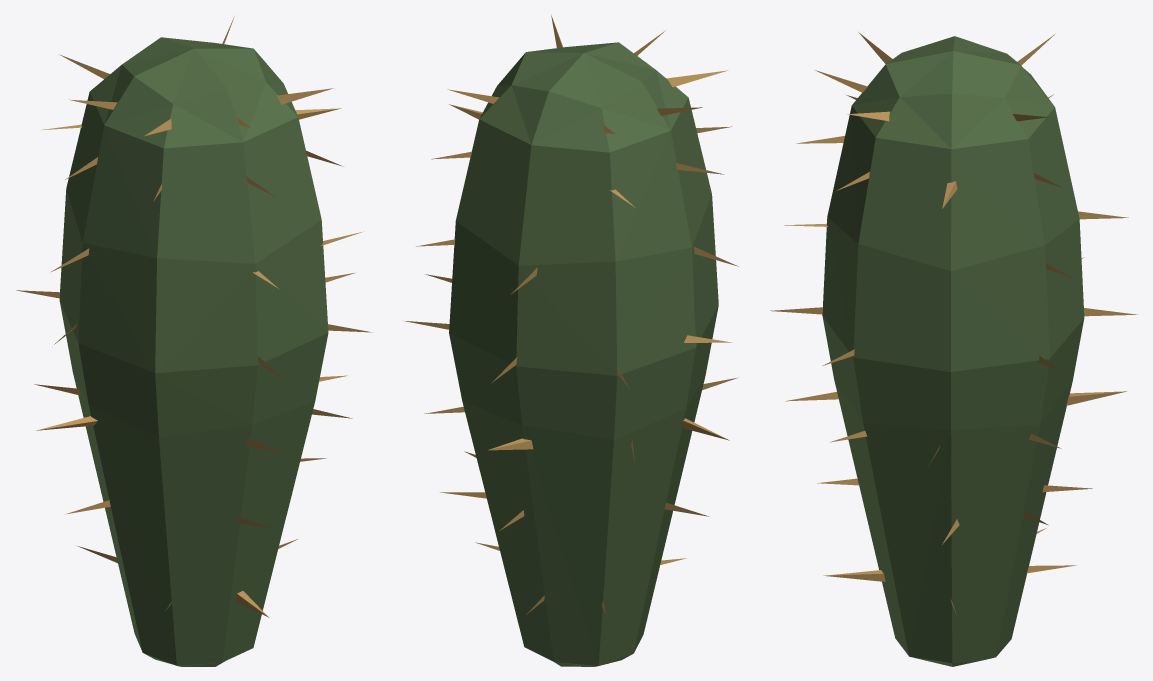
The model's file is Cactus_1.lod1.glb.
3 views of the same model, side by side, from view 1: azimuth 30°, elevation 25°; view 2: azimuth 150°, elevation 25°; view 3: azimuth 270°, elevation 25° (orthographic).
Visible parts, largest first — view 1: Cactus_1; view 2: Cactus_1; view 3: Cactus_1.
Boxes of the visible parts, left/top/right/bottom form: Cactus_1: left=16, top=17, right=371, bottom=666; Cactus_1: left=404, top=14, right=738, bottom=666; Cactus_1: left=770, top=32, right=1137, bottom=666.
Size of the model in its own units: 0.5497 by 1.01 by 0.5629.
